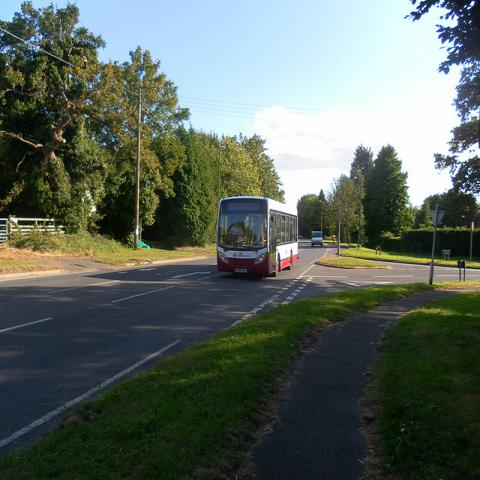bus: (216, 196, 299, 278)
car: (311, 231, 323, 247), (298, 235, 303, 239)
truck: (311, 231, 323, 248)
